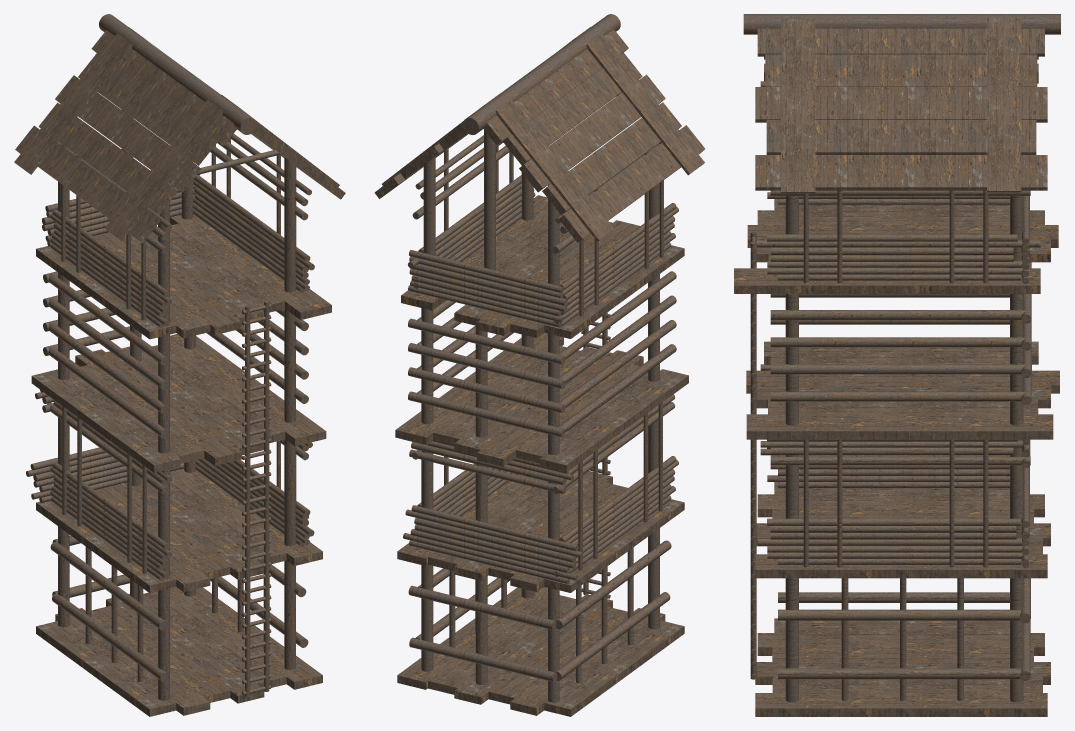
Rendered from OU_AR_Watch_Tower_01_D.fbx.
3 renders of one model, left to right at view 1: azimuth 30°, elevation 25°; view 2: azimuth 150°, elevation 25°; view 3: azimuth 270°, elevation 25°, orthographic. The views are drawn at different scales.
Visible parts, largest first — view 1: Watch_Tower; view 2: Watch_Tower; view 3: Watch_Tower.
Boxes of the visible parts, bbox=[...] form: Watch_Tower: bbox=[14, 14, 345, 716]; Watch_Tower: bbox=[374, 14, 704, 716]; Watch_Tower: bbox=[734, 14, 1060, 716].
Bounding box in the file's own units: 707 × 1819 × 819.
2 materials, 2 textured.
